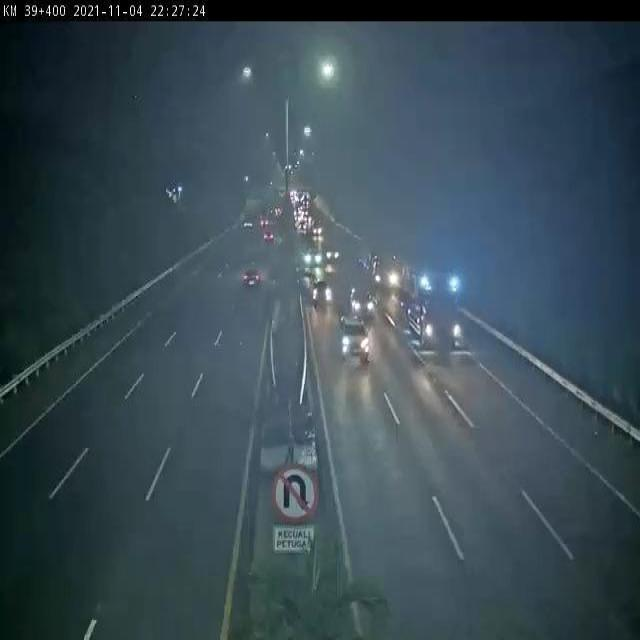ARABA: (338, 312, 369, 363), (349, 285, 376, 319), (310, 277, 331, 303), (242, 267, 263, 289)
KAMYONET: (303, 246, 322, 266)
TIR: (401, 265, 463, 352), (360, 251, 403, 296)
